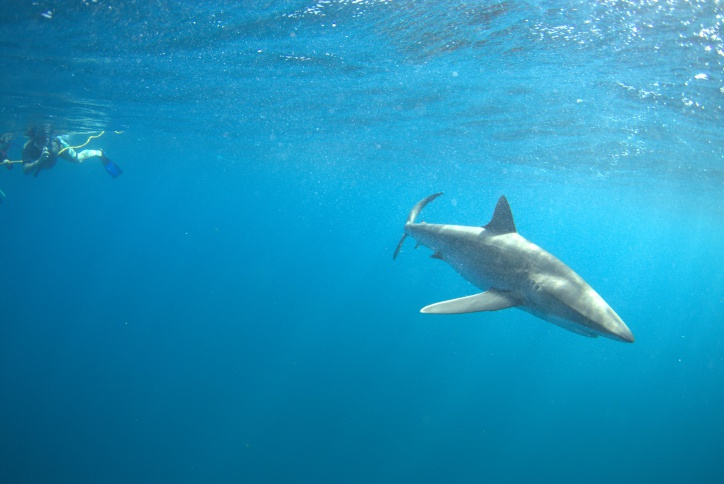Sedoso: (378, 182, 639, 354)
